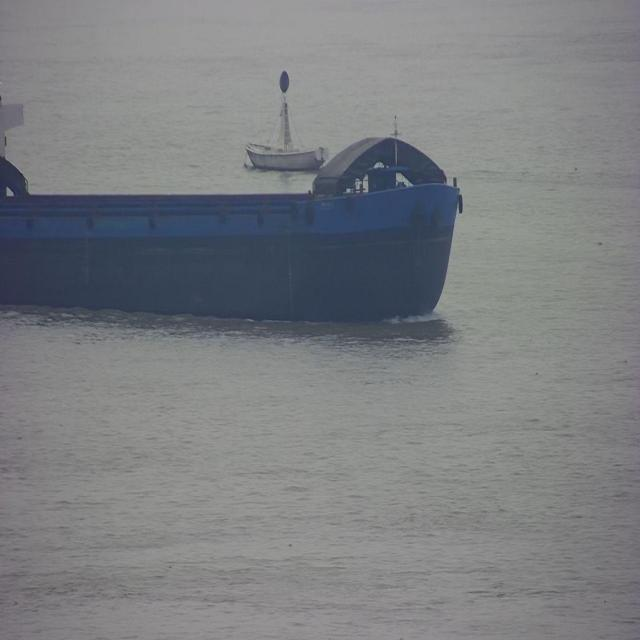CIV_Ship: (242, 71, 333, 170)
